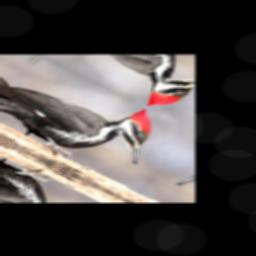Woodpecker: (0, 56, 176, 186)
